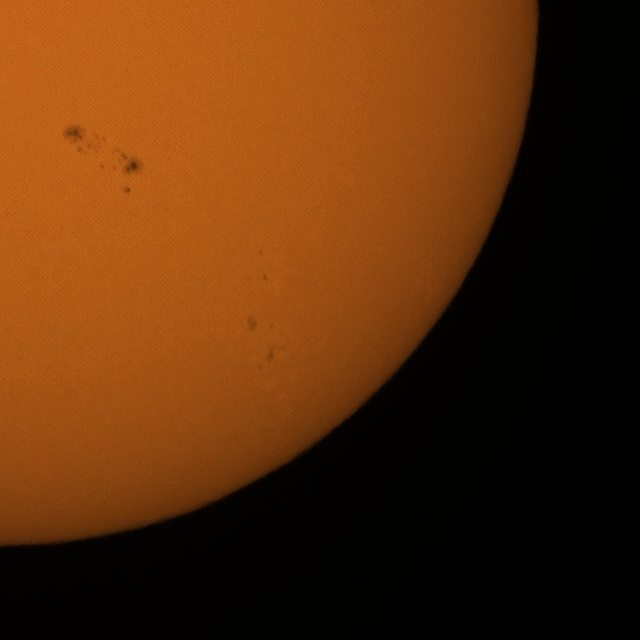sunspot: (61, 124, 110, 159), (99, 149, 140, 189)
